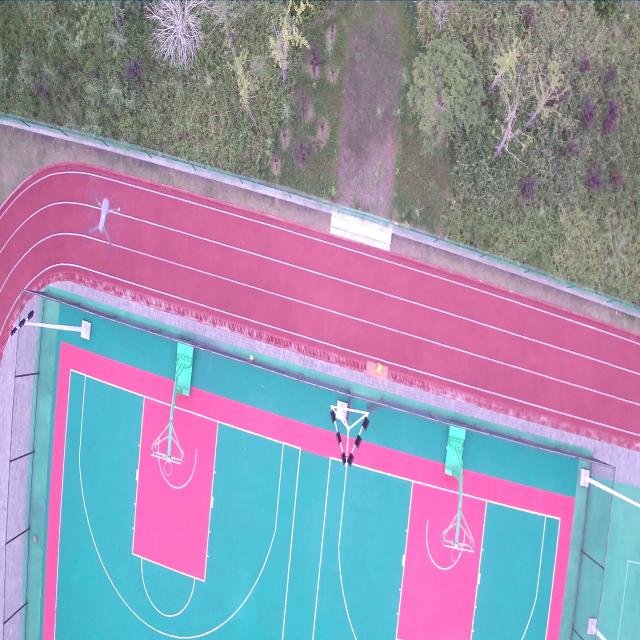UAV: (87, 192, 122, 249)
